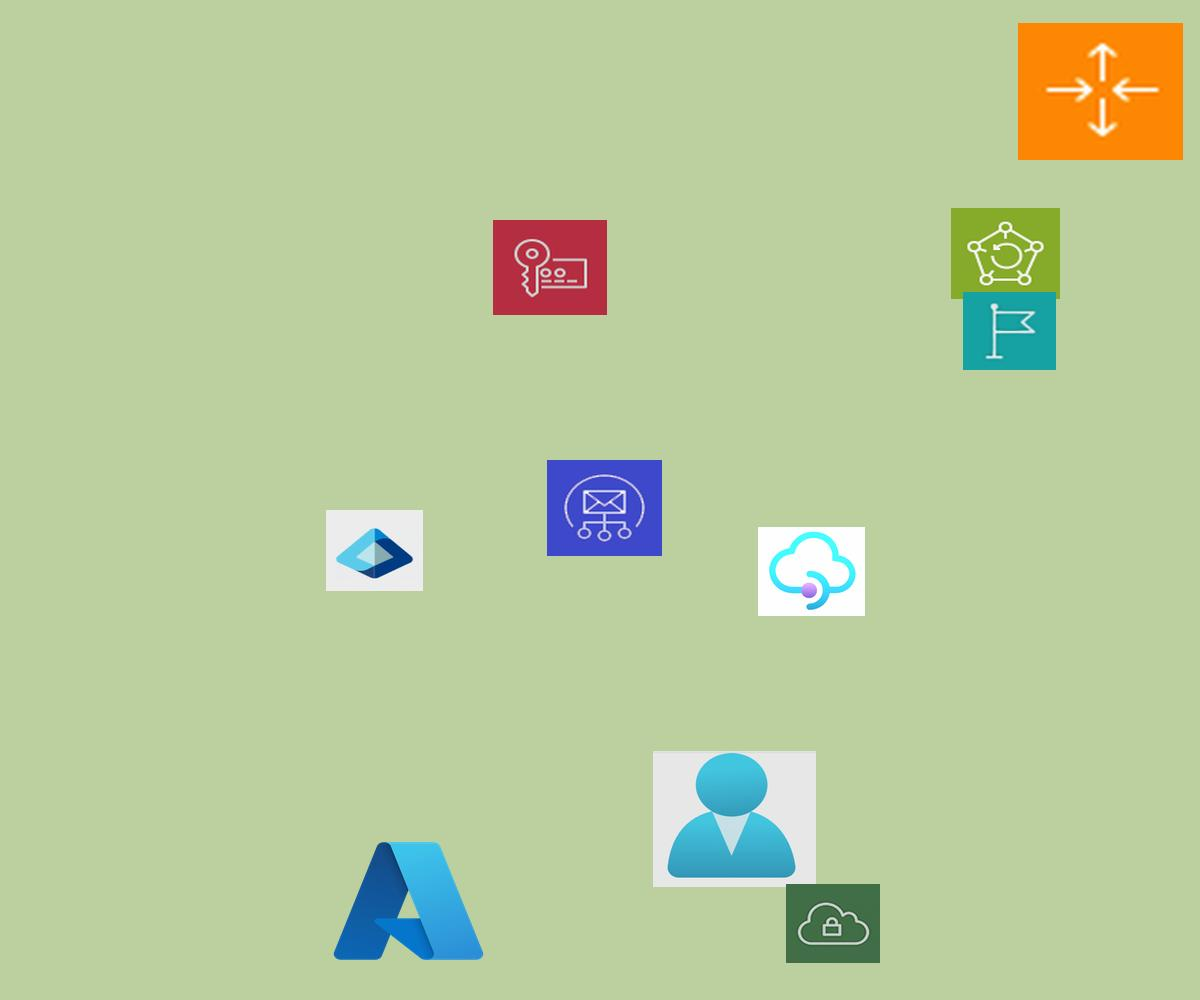AWS-Backup: (951, 208, 1060, 299)
AWS-Key-Management-Service: (493, 220, 607, 315)
AWS-Private_vpc: (786, 884, 880, 963)
AWS-Region: (963, 292, 1056, 370)
AWS-Scaling-group: (1018, 23, 1183, 160)
AWS-Simple-Email-Service: (547, 460, 662, 556)
Azure_api_gateway: (758, 527, 865, 616)
Azure_microsoft_entra: (326, 510, 423, 591)
Azure_services: (327, 833, 490, 969)
Azure_users: (653, 751, 816, 887)
